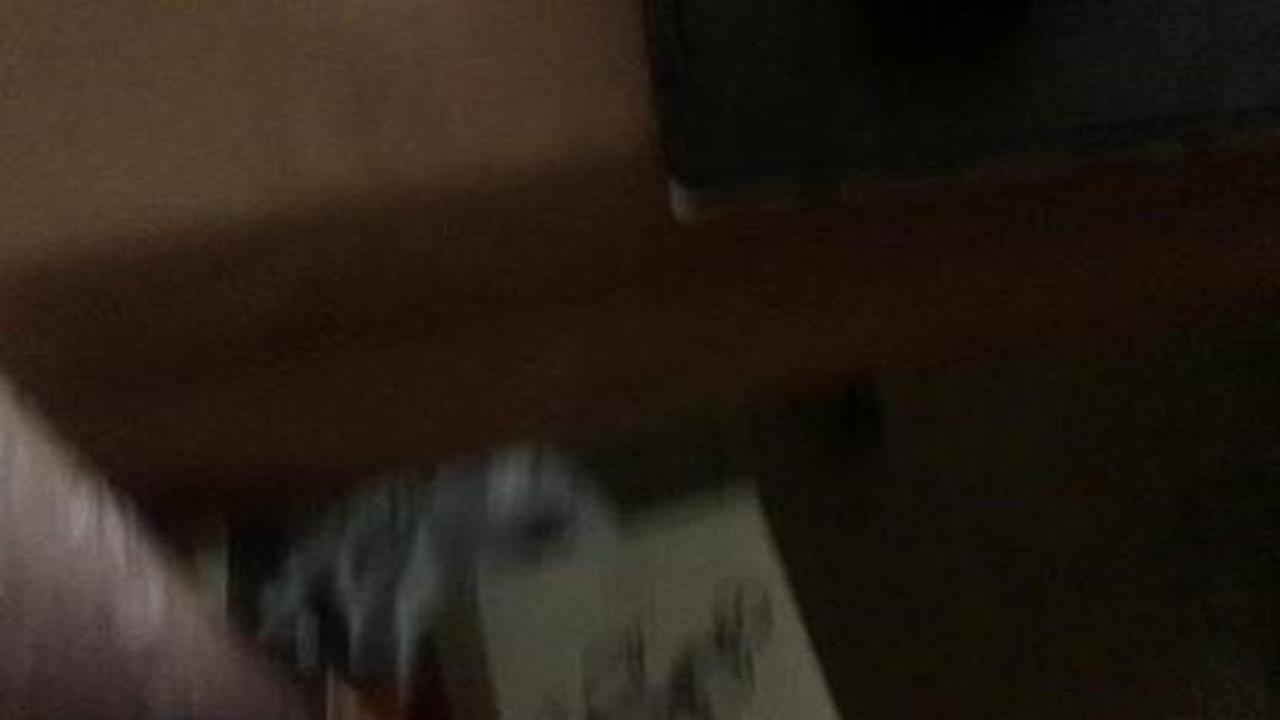insulator_pin: (807, 248, 859, 281)
